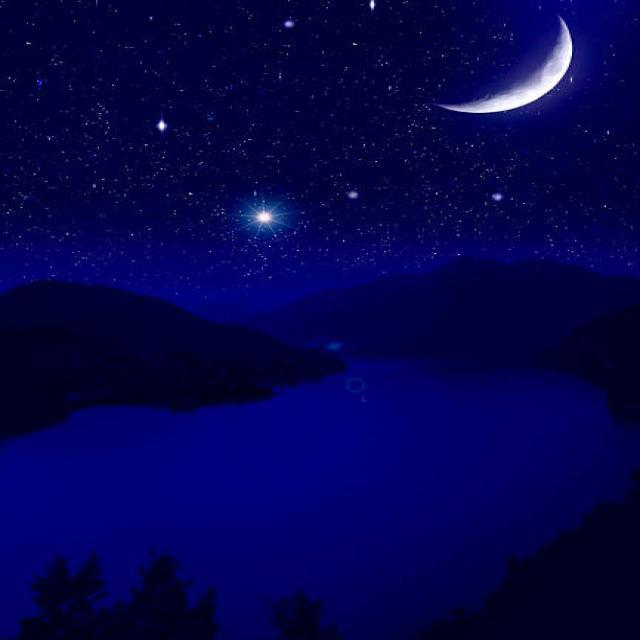moon: (432, 0, 579, 115)
